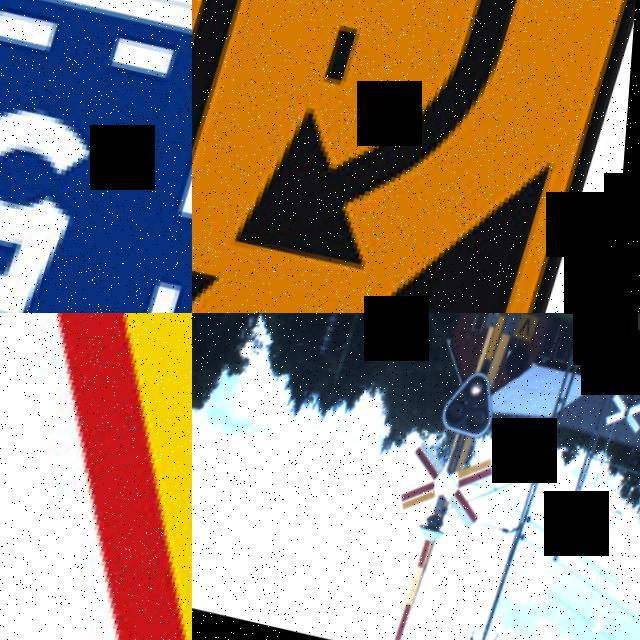172: (0, 0, 192, 313)
62: (395, 432, 511, 538)
64: (192, 0, 640, 313)
Speed refulcation bump: (0, 313, 192, 640)
